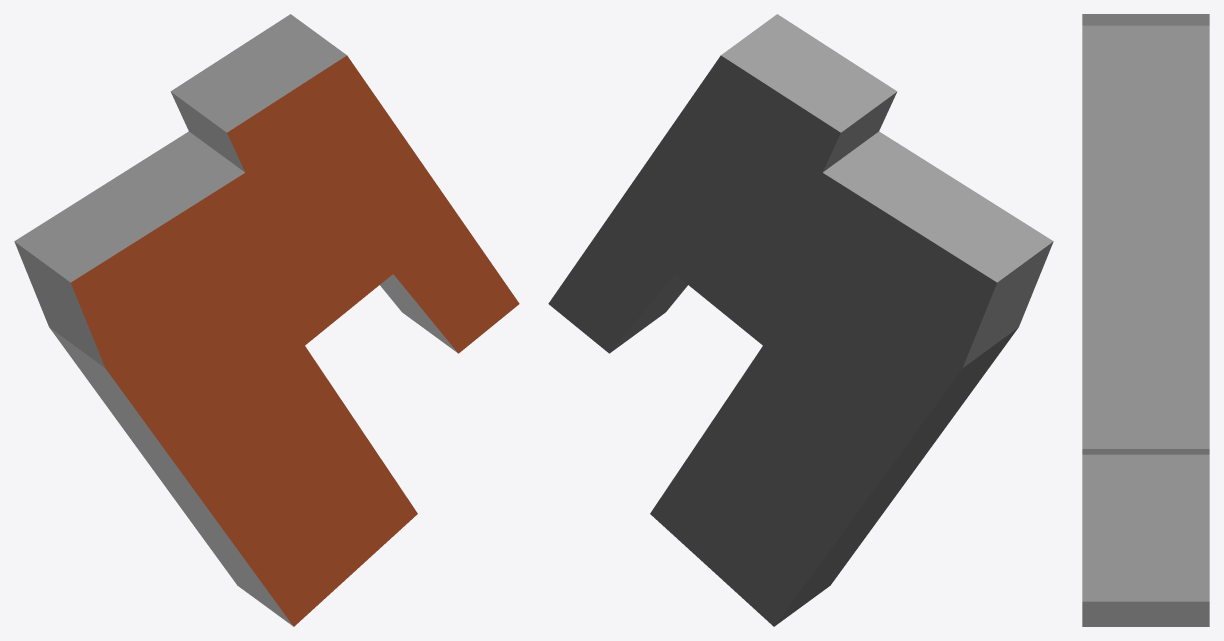
File: construction_4233_assumed_A_Casa_h6m.obj
3 renders of one model, left to right at view 1: azimuth 30°, elevation 25°; view 2: azimuth 150°, elevation 25°; view 3: azimuth 270°, elevation 25°, orthographic. The views are drawn at different scales.
Visible parts, largest first — view 1: construction_4233_assumed_A_Casa; view 2: construction_4233_assumed_A_Casa; view 3: construction_4233_assumed_A_Casa.
Boxes of the visible parts, x1,y1,x2,y2 form: construction_4233_assumed_A_Casa: [14, 14, 519, 626]; construction_4233_assumed_A_Casa: [548, 14, 1053, 626]; construction_4233_assumed_A_Casa: [1082, 14, 1209, 626].
Size of the model in its own units: 27.54 by 32.75 by 6.
